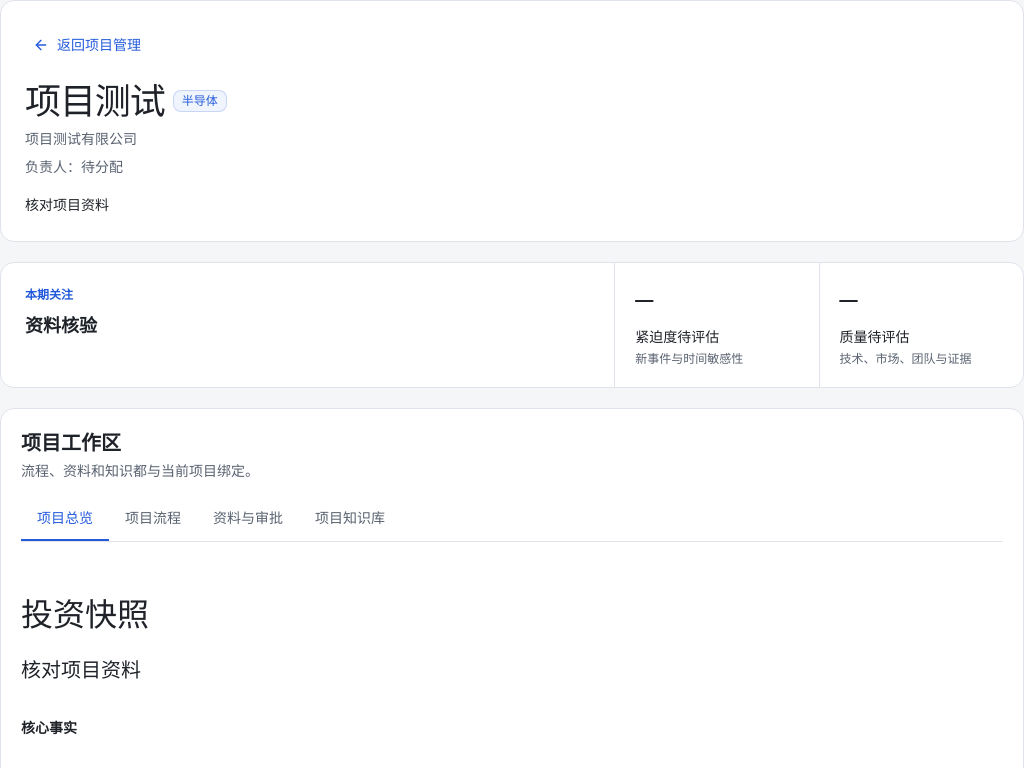
Test: opens a discussion beside the document and saves a reply against the original comment
Click the tab "资料与审批": (248, 519) [197,497,299,541]
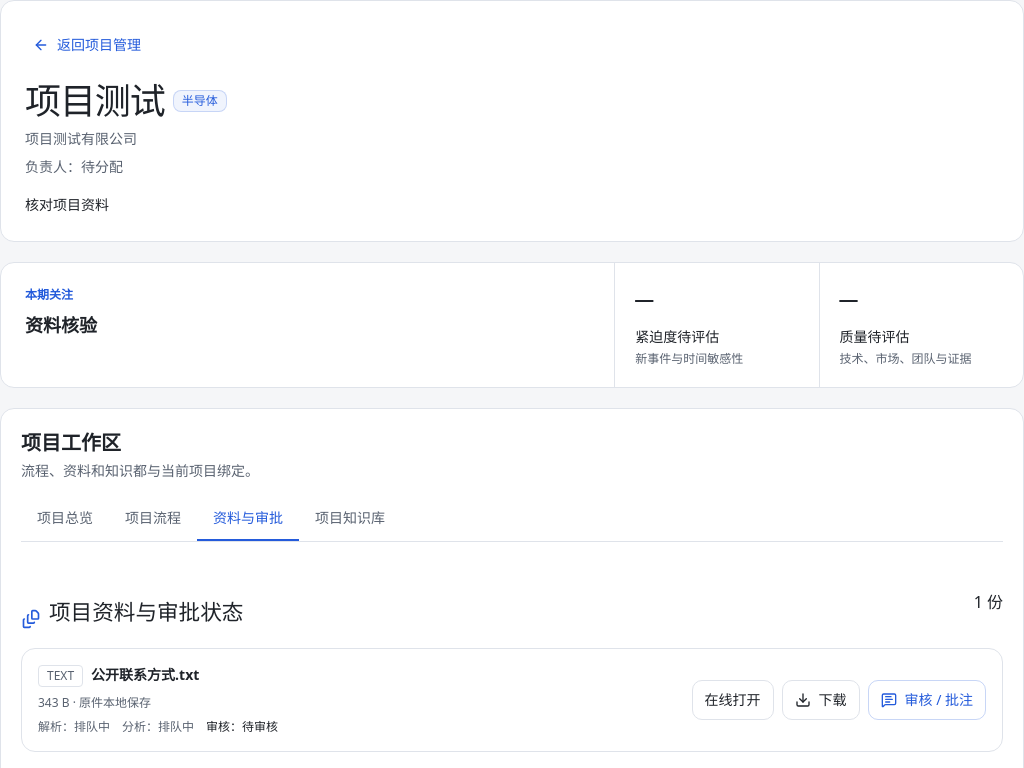
Click the button with aria-label "审核 / 批注 公开联系方式.txt": (927, 700) [868,680,986,720]
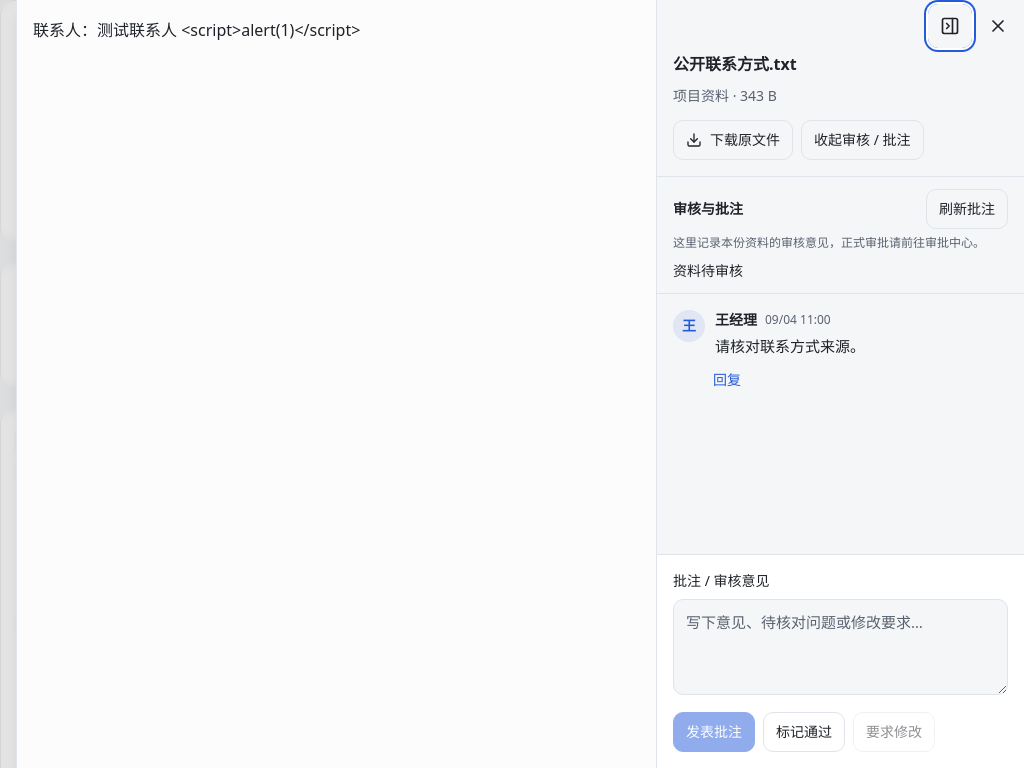
Check: the text "请核对联系方式来源。" is shown, box [715,336,865,356]
Click the button "回复": (727, 380) [713,362,741,398]
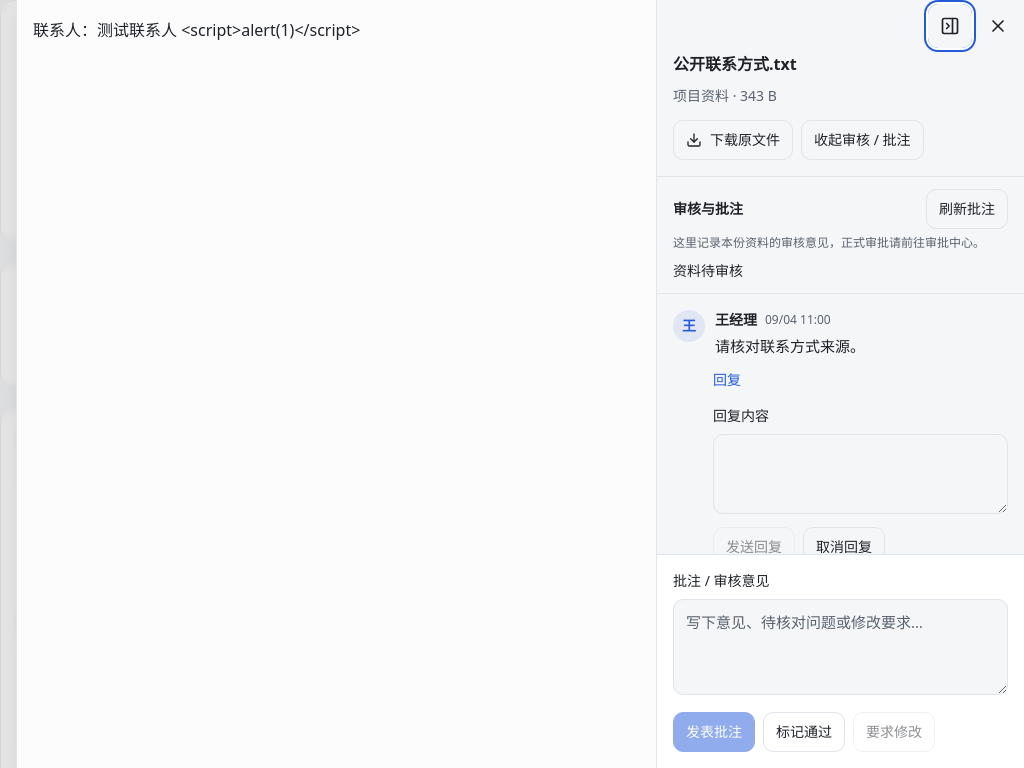
In the text box labelled "回复内容": (860, 474) [713,434,1008,514], type "已核对官网，联系方式一致。"
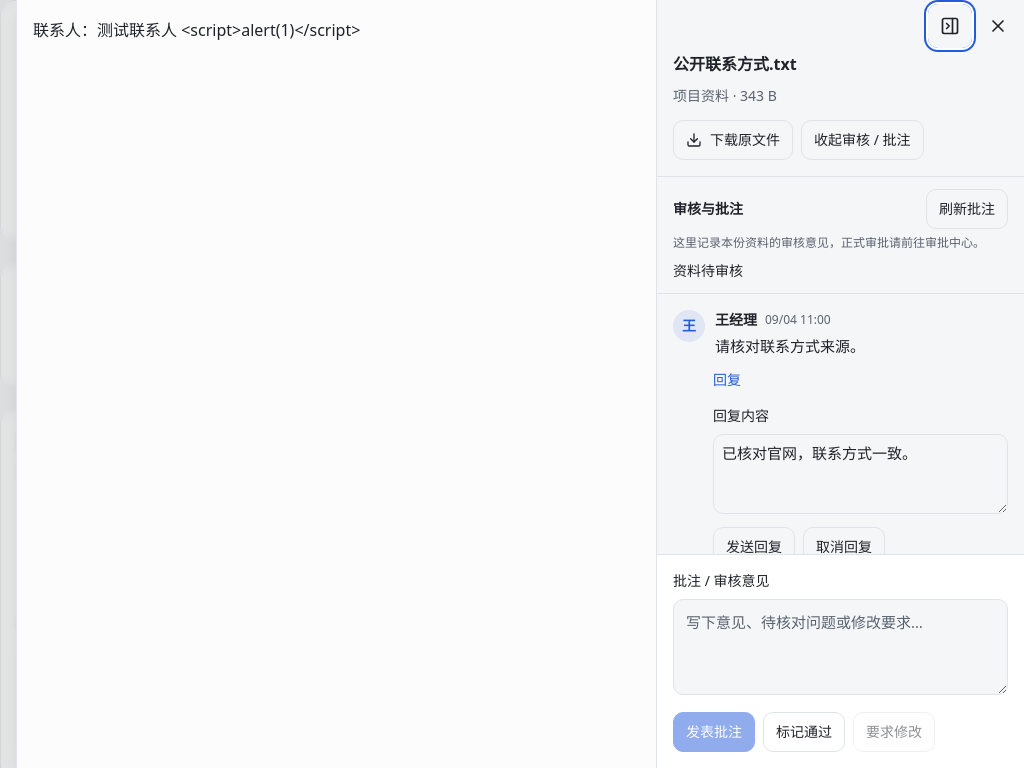
Click the button "发送回复": (754, 547) [713,527,795,567]
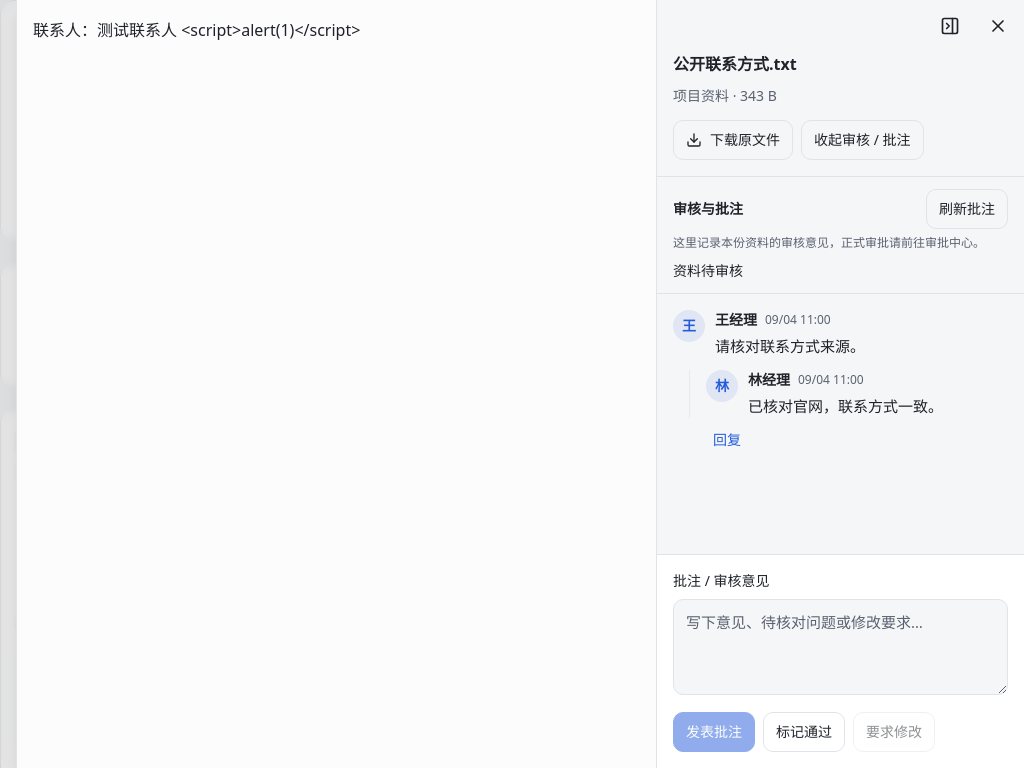
Check: the text "已核对官网，联系方式一致。" is shown, box [748,396,943,416]
